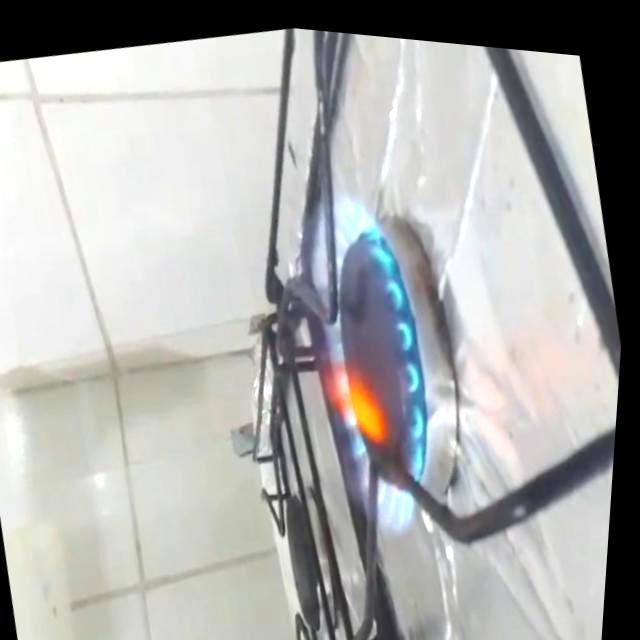fire: (271, 166, 475, 548)
